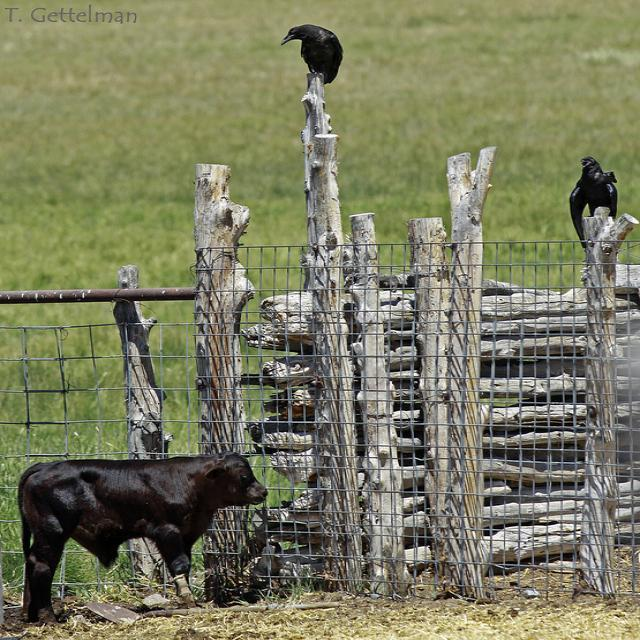cow: (14, 451, 271, 622)
